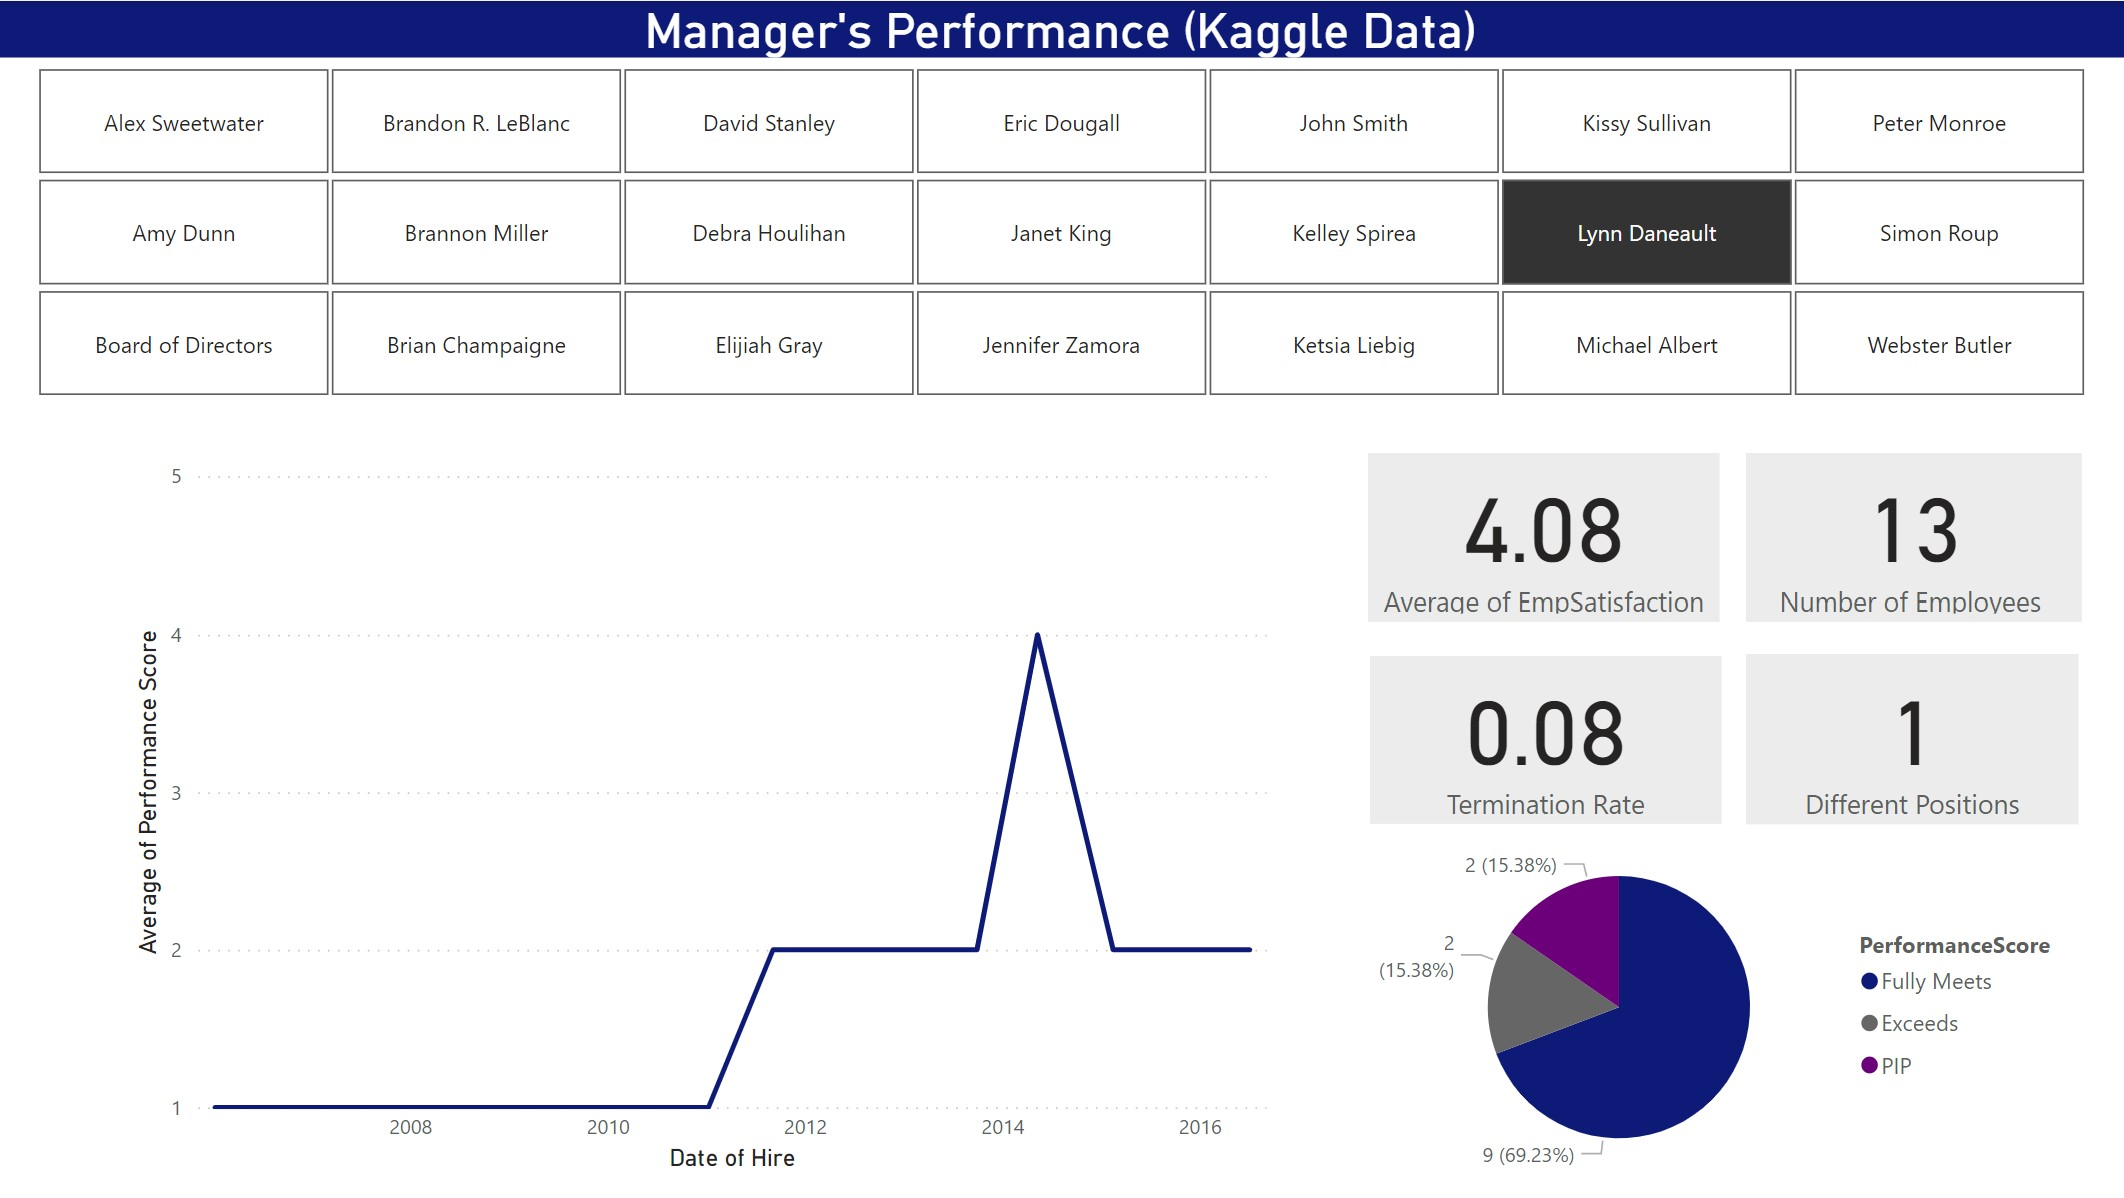

The dashboard page shown, as its layout file describes it:
{"tool":"powerbi","page":{"name":"Page 1","canvas":[1280,720],"ordinal":0},"visuals":[{"type":"lineChart","fields":{"Category":["HRDataset_v14.DateofHire"],"Series":["HRDataset_v14.ManagerID"],"Y":["HRDataset_v14.PerformanceScore - Copy"]},"box":[78.2,271.9,694.1,436.7],"z":0},{"type":"slicer","title":"Manager''s Performance  (Kaggle Data) ","fields":{"Values":["HRDataset_v14.ManagerName"]},"box":[0,0,1280,244.2],"z":1000},{"type":"pieChart","fields":{"Category":["HRDataset_v14.PerformanceScore"],"Y":["HRDataset_v14.PerformanceScore"]},"box":[826.9,489.5,428.3,229.9],"z":2000},{"type":"card","fields":{"Values":["HRDataset_v14.EmpID"]},"box":[1052.1,271.8,201.8,100.9],"z":3000},{"type":"card","fields":{"Values":["HRDataset_v14.Position"]},"box":[1052.9,392.5,200.1,102.5],"z":4000},{"type":"card","fields":{"Values":["HRDataset_v14.EmpSatisfaction"]},"box":[824.7,271.8,211.7,100.9],"z":5000},{"type":"card","fields":{"Values":["HRDataset_v14.Termination Rate"]},"box":[825.9,392.8,211.7,101.1],"z":6000}]}

Visuals, with their boxes in screenshot pixels (x1, y1, x2, y2), scaled from the page's 1280x720 canvas onto the 2124x1198 screenshot:
lineChart - HRDataset_v14.DateofHire x HRDataset_v14.ManagerID: x1=130 y1=452 x2=1282 y2=1179
"Manager''s Performance  (Kaggle Data) " slicer: x1=0 y1=0 x2=2123 y2=406
pieChart - HRDataset_v14.PerformanceScore x HRDataset_v14.PerformanceScore: x1=1372 y1=814 x2=2083 y2=1197
card - HRDataset_v14.EmpID: x1=1746 y1=452 x2=2081 y2=620
card - HRDataset_v14.Position: x1=1747 y1=653 x2=2079 y2=824
card - HRDataset_v14.EmpSatisfaction: x1=1368 y1=452 x2=1720 y2=620
card - HRDataset_v14.Termination Rate: x1=1370 y1=654 x2=1722 y2=822
